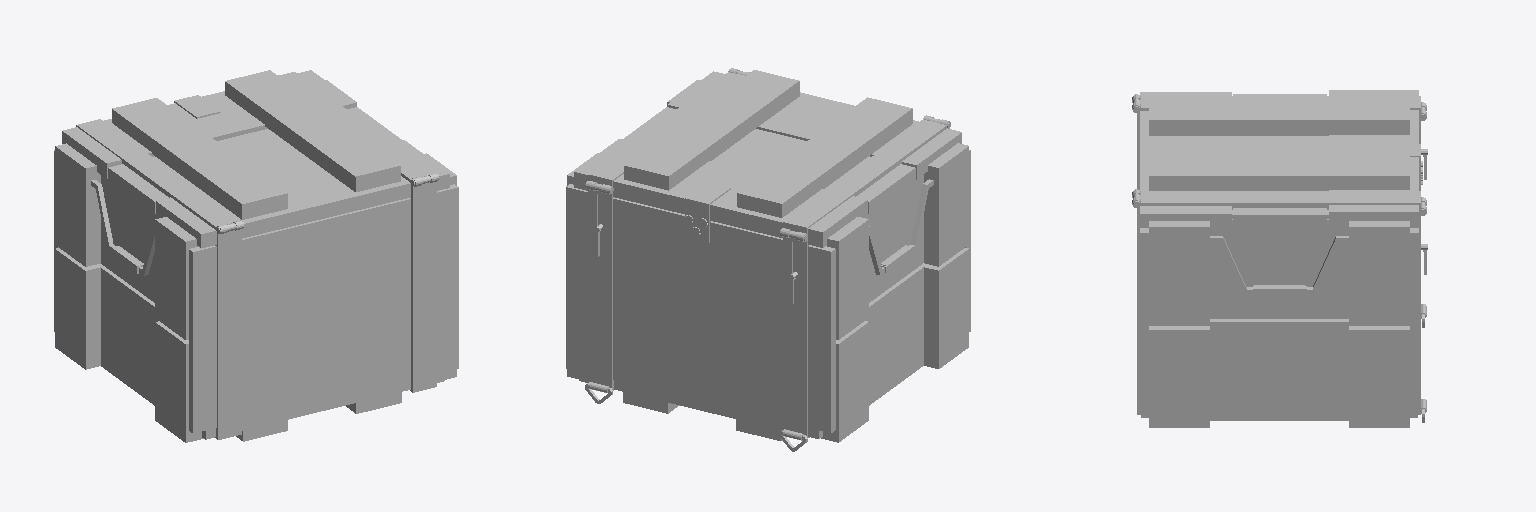
File: caisse_classique.obj
3 renders of one model, left to right at view 1: azimuth 30°, elevation 25°; view 2: azimuth 150°, elevation 25°; view 3: azimuth 270°, elevation 25°, orthographic.
Visible parts, largest first — view 1: cube, Contour; view 2: cube, Contour, hexadecagon; view 3: cube, Contour, hexadecagon.
Boxes of the visible parts, x1=… form: cube: x1=54, y1=70, x2=458, y2=442; Contour: x1=76, y1=72, x2=436, y2=439; cube: x1=566, y1=70, x2=970, y2=442; Contour: x1=588, y1=72, x2=946, y2=437; hexadecagon: x1=585, y1=68, x2=950, y2=451; cube: x1=1140, y1=90, x2=1418, y2=427; Contour: x1=1137, y1=96, x2=1422, y2=414; hexadecagon: x1=1132, y1=94, x2=1427, y2=422.
Bounding box in the file's own units: 1.12 × 0.9419 × 1.06.